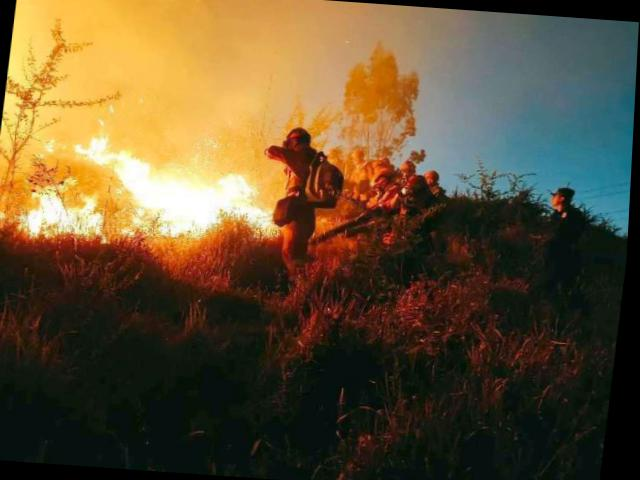fire: (5, 112, 292, 248)
